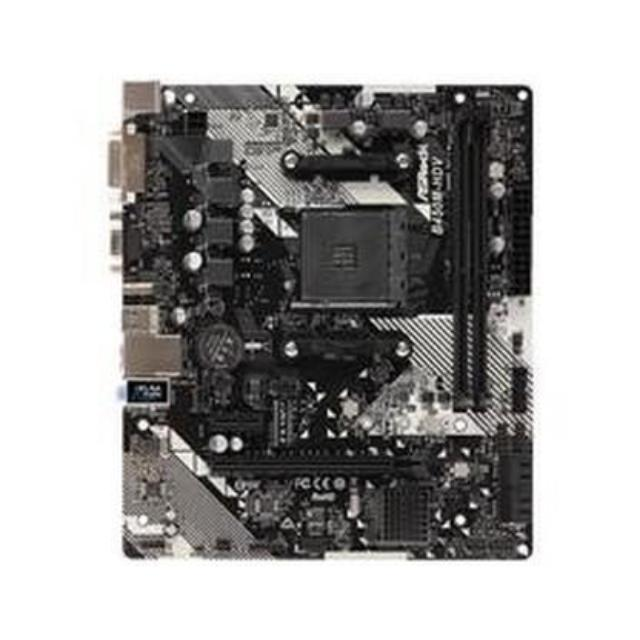Mainboard: (98, 60, 553, 585)
